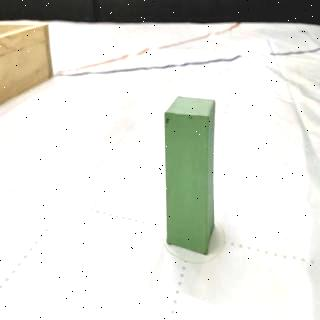greenbox: (163, 94, 219, 257)
